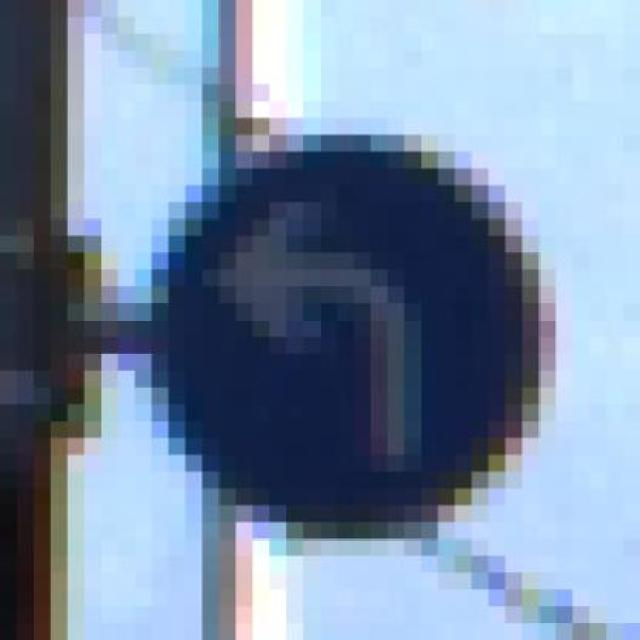Turn left ahead: (152, 118, 556, 573)
